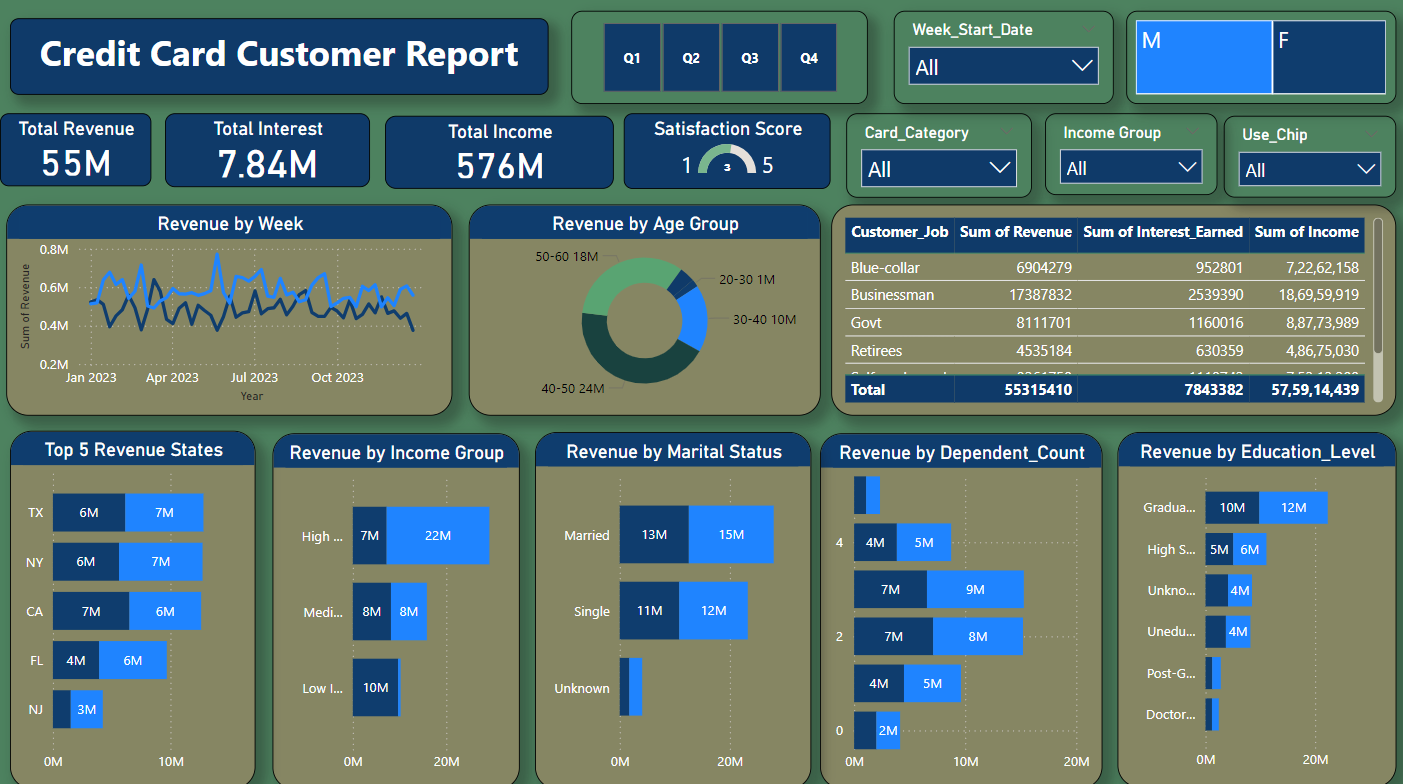

The dashboard page shown, as its layout file describes it:
{"tool":"powerbi","page":{"name":"Page 2","canvas":[1280,720],"ordinal":1},"visuals":[{"type":"textbox","box":[9.3,19.8,489.5,69.8],"z":0},{"type":"card","title":"Total Revenue","fields":{"Values":["Sum(credit_card.Revenue)"]},"box":[0,105.8,137.2,66.3],"z":1000},{"type":"slicer","fields":{"Values":["credit_card.Qtr"]},"box":[519.8,12.8,269.8,84.9],"z":2000},{"type":"slicer","fields":{"Values":["credit_card.Week_Start_Date"]},"box":[812.8,12.8,200,84.9],"z":3000},{"type":"treemap","title":"Gender","fields":{"Group":["customer.Gender"],"Values":["Sum(credit_card.Revenue)"]},"box":[1024.4,12.8,245.3,84.9],"z":4000},{"type":"slicer","fields":{"Values":["credit_card.Card_Category"]},"box":[769.8,105.8,168.6,76.7],"z":5000},{"type":"slicer","fields":{"Values":["customer.Income Group"]},"box":[950,105.8,157,74.4],"z":6000},{"type":"card","title":"Total Interest ","fields":{"Values":["Sum(credit_card.Interest_Earned)"]},"box":[150,105.8,186,67.4],"z":7000},{"type":"gauge","title":"Satisfaction Score","fields":{"Y":["Avg(customer.Cust_Satisfaction_Score)"]},"box":[567.4,105.8,188.4,68.6],"z":8000},{"type":"card","title":"Total Income","fields":{"Values":["Sum(customer.Income)"]},"box":[350,108.1,208.1,66.3],"z":9000},{"type":"lineChart","title":"Revenue by Week","fields":{"Series":["customer.Gender"],"Category":["credit_card.Week_Start_Date.Variation.Date Hierarchy.Year","credit_card.Week_Start_Date.Variation.Date Hierarchy.Month","credit_card.Week_Start_Date.Variation.Date Hierarchy.Day"],"Y":["Sum(credit_card.Revenue)"]},"box":[5.8,188.4,405.8,191.9],"z":10000},{"type":"treemap","fields":{"Group":["customer.Gender"],"Values":["Sum(credit_card.Revenue)"]},"box":[825.6,195.3,434.9,60.5],"z":11000},{"type":"barChart","title":"Revenue by Income Group","fields":{"Category":["customer.Income Group"],"Y":["Sum(credit_card.Revenue)"],"Series":["customer.Gender"]},"box":[247.9,396.2,224.4,323.8],"z":12000},{"type":"donutChart","title":"Revenue by Age Group","fields":{"Category":["customer.Age Group"],"Y":["Sum(credit_card.Revenue)"]},"box":[425.6,188.4,319.8,191.9],"z":13000},{"type":"barChart","title":"Revenue by Dependent_Count","fields":{"Category":["customer.Dependent_Count"],"Y":["Sum(credit_card.Revenue)"],"Series":["customer.Gender"]},"box":[745.4,396.5,257,323.3],"z":14000},{"type":"barChart","title":"Revenue by Education_Level","fields":{"Category":["customer.Education_Level"],"Y":["Sum(credit_card.Revenue)"],"Series":["customer.Gender"]},"box":[1016.3,395.3,253.5,323.3],"z":15000},{"type":"barChart","title":"Top 5 Revenue  States","fields":{"Category":["customer.state_cd"],"Y":["Sum(credit_card.Revenue)"],"Series":["customer.Gender"]},"box":[9.3,394.2,223.3,325.6],"z":16000},{"type":"tableEx","fields":{"Values":["customer.Customer_Job","Sum(credit_card.Revenue)","Sum(credit_card.Interest_Earned)","Sum(customer.Income)"]},"box":[755.8,188.4,514,191.9],"z":17000},{"type":"barChart","title":"Revenue by Marital Status","fields":{"Category":["customer.Marital_Status"],"Y":["Sum(credit_card.Revenue)"],"Series":["customer.Gender"]},"box":[486,395.3,251.2,324.4],"z":18000},{"type":"slicer","fields":{"Values":["credit_card.Use_Chip"]},"box":[1112.8,108.1,157,74.4],"z":19000}]}

Visuals, with their boxes in screenshot pixels (x1, y1, x2, y2), scaled from the page's 1280x720 canvas onto the 1403x784 screenshot:
textbox: (x1=10, y1=22, x2=547, y2=98)
"Total Revenue" card: (x1=0, y1=115, x2=150, y2=187)
slicer - credit_card.Qtr: (x1=570, y1=14, x2=865, y2=106)
slicer - credit_card.Week_Start_Date: (x1=891, y1=14, x2=1110, y2=106)
"Gender" treemap: (x1=1123, y1=14, x2=1392, y2=106)
slicer - credit_card.Card_Category: (x1=844, y1=115, x2=1029, y2=199)
slicer - customer.Income Group: (x1=1041, y1=115, x2=1213, y2=196)
"Total Interest " card: (x1=164, y1=115, x2=368, y2=189)
"Satisfaction Score" gauge: (x1=622, y1=115, x2=828, y2=190)
"Total Income" card: (x1=384, y1=118, x2=612, y2=190)
"Revenue by Week" lineChart: (x1=6, y1=205, x2=451, y2=414)
treemap - customer.Gender x Sum(credit_card.Revenue): (x1=905, y1=213, x2=1382, y2=279)
"Revenue by Income Group" barChart: (x1=272, y1=431, x2=518, y2=783)
"Revenue by Age Group" donutChart: (x1=466, y1=205, x2=817, y2=414)
"Revenue by Dependent_Count" barChart: (x1=817, y1=432, x2=1099, y2=783)
"Revenue by Education_Level" barChart: (x1=1114, y1=430, x2=1392, y2=782)
"Top 5 Revenue  States" barChart: (x1=10, y1=429, x2=255, y2=783)
tableEx - customer.Customer_Job x Sum(credit_card.Revenue): (x1=828, y1=205, x2=1392, y2=414)
"Revenue by Marital Status" barChart: (x1=533, y1=430, x2=808, y2=783)
slicer - credit_card.Use_Chip: (x1=1220, y1=118, x2=1392, y2=199)
